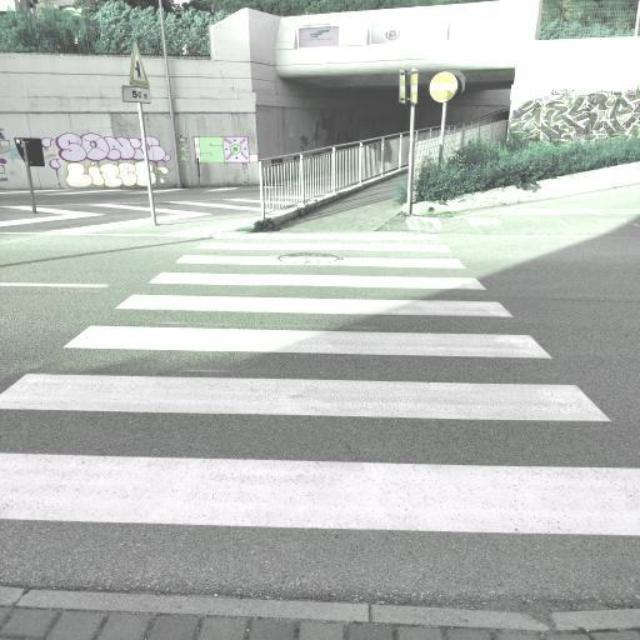sidewalk: (0, 222, 640, 609)
